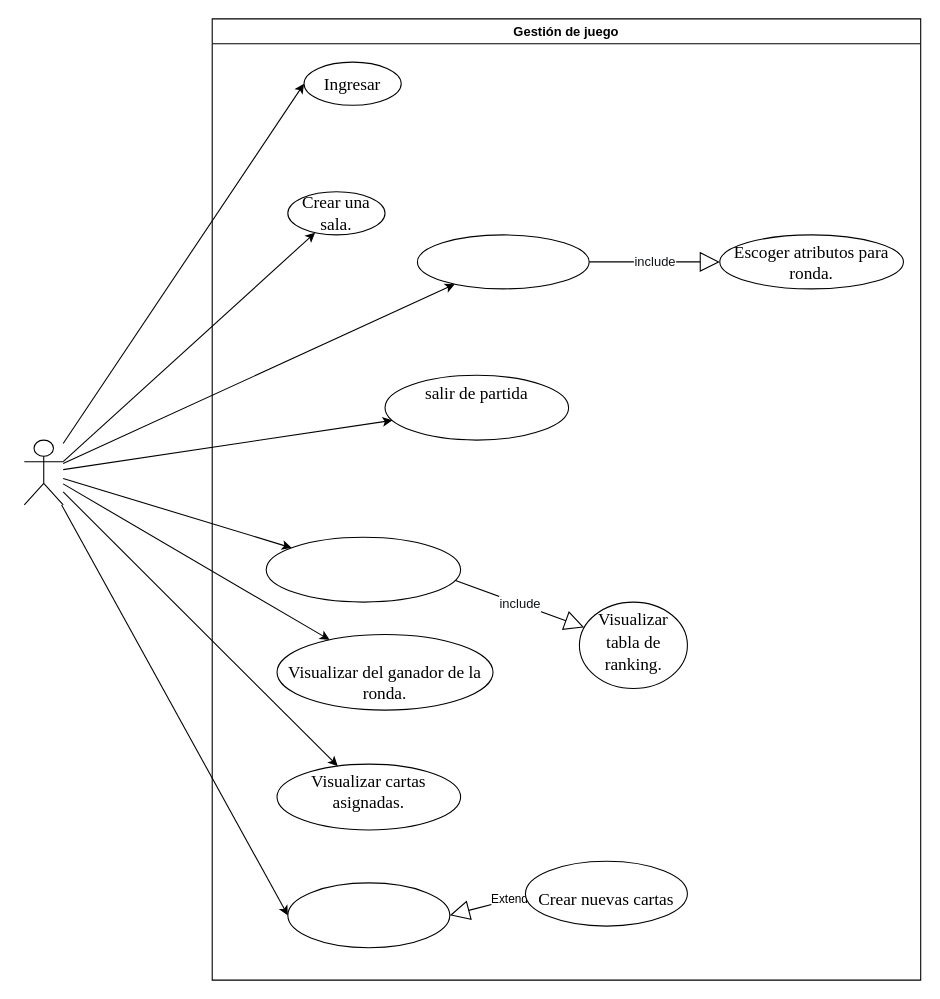
This 940x999 diagram has some shape labels left out. Here are the shapes that lost their labels. From the top down, the centre of each, then its label:
the point at 502,261: Escoger carta para ronda.
the point at 43,472: Usuarios
the point at 363,569: Visualizar ganador de partida
the point at 368,915: Visualizar lista de cartas.
